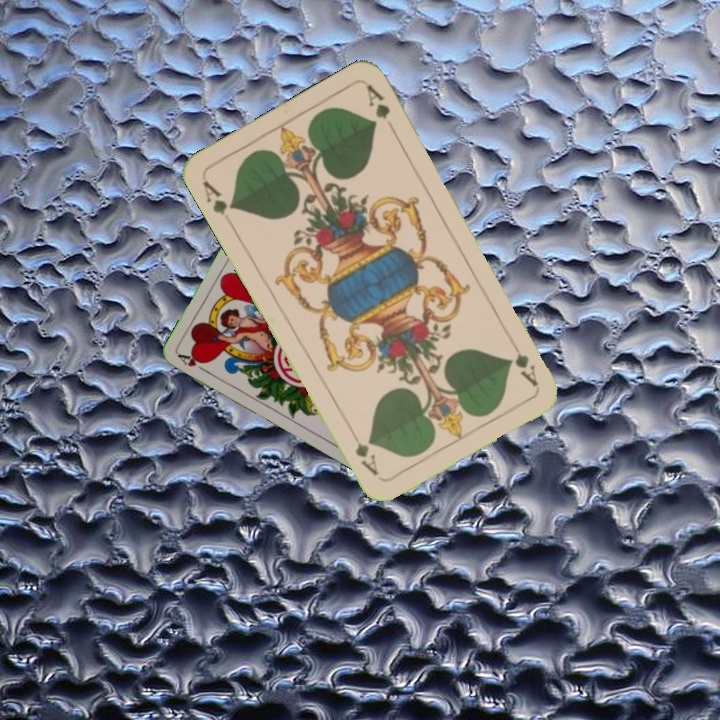GA: (505, 334, 541, 389), (198, 176, 238, 218)
HA: (175, 350, 212, 376)
